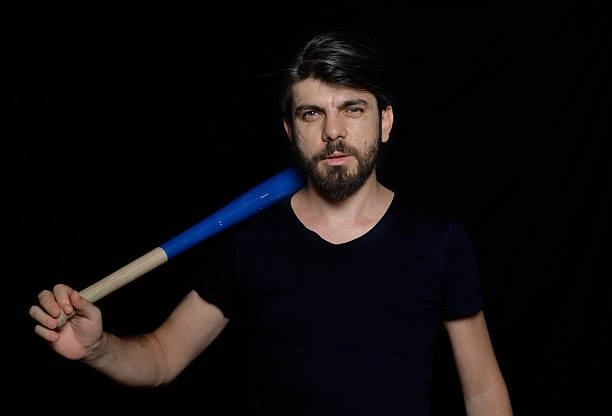bita: (67, 155, 313, 309)
